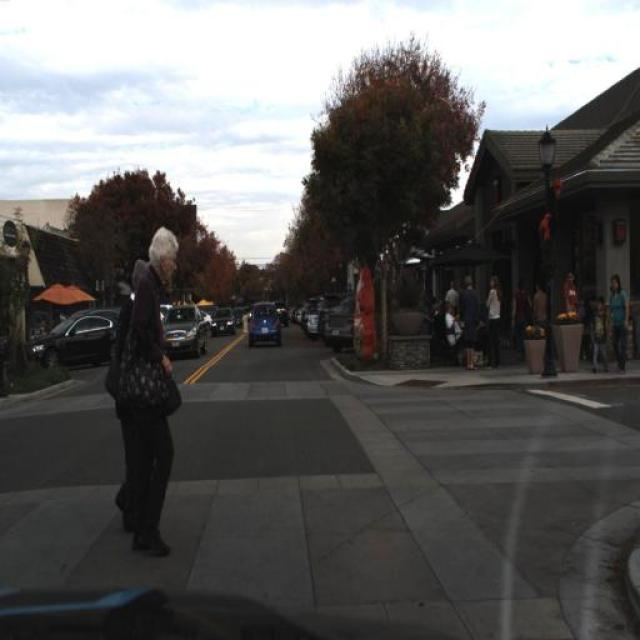car: (29, 310, 123, 374), (160, 302, 206, 359), (246, 299, 280, 349), (316, 290, 340, 346), (327, 297, 353, 345), (307, 303, 317, 339)
trafficLight: (113, 226, 189, 574), (104, 249, 148, 543), (602, 273, 634, 371), (456, 274, 486, 377), (508, 282, 534, 368), (442, 300, 472, 364), (483, 271, 501, 365), (560, 271, 586, 333), (589, 300, 610, 372), (529, 280, 551, 340), (442, 277, 462, 317), (299, 298, 307, 334)
